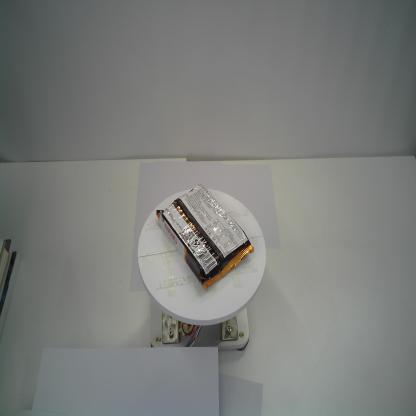Dessert: (154, 182, 255, 291)
